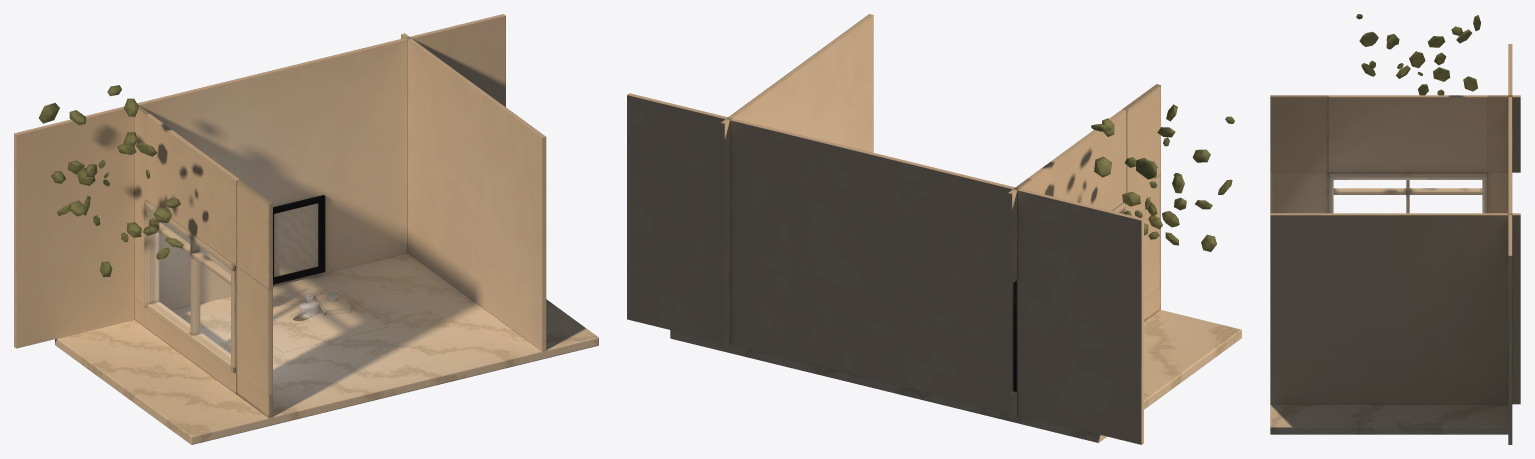
The model's file is Glass_With_Room.glb.
3 views of the same model, side by side, from view 1: azimuth 30°, elevation 25°; view 2: azimuth 150°, elevation 25°; view 3: azimuth 270°, elevation 25° (orthographic). The views are drawn at different scales.
Visible parts, largest first — view 1: BakedStage_warm, BakedProps_warm, BakedHero_warm; view 2: BakedStage_warm; view 3: BakedStage_warm.
Part boxes in pixels (left/top/right/bottom): BakedStage_warm: left=14, top=14, right=598, bottom=444; BakedProps_warm: left=273, top=195, right=350, bottom=315; BakedHero_warm: left=229, top=287, right=388, bottom=352; BakedStage_warm: left=627, top=14, right=1241, bottom=444; BakedStage_warm: left=1270, top=14, right=1520, bottom=444.
Size of the model in its own units: 1.21 by 0.6415 by 0.6.
54 materials, 52 textured.
